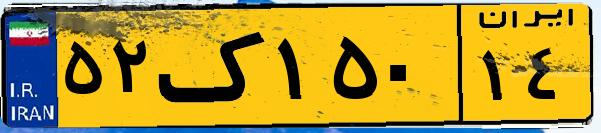0: (385, 28, 445, 110)
1: (270, 28, 330, 110), (475, 38, 525, 113)
2: (110, 28, 158, 98)
4: (525, 38, 570, 115)
5: (330, 28, 385, 110), (57, 26, 110, 100)
ک: (158, 12, 270, 120)
